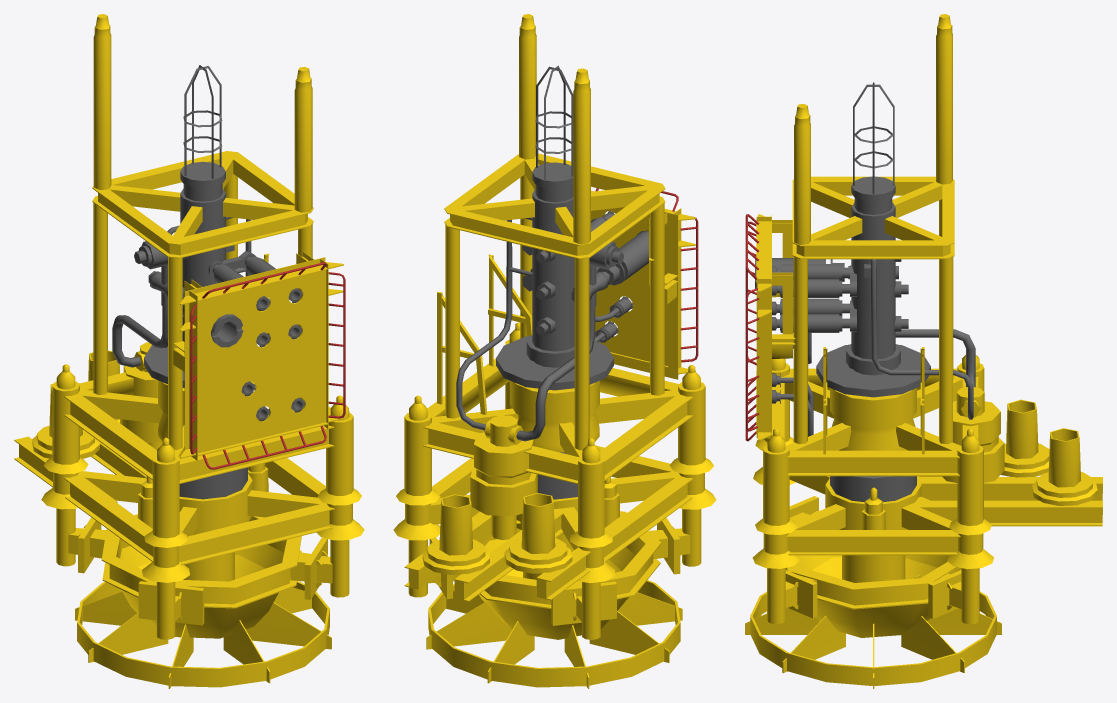
File: ANM_03.FBX
The picture shows the model from 3 angles, left to right: view 1: azimuth 30°, elevation 25°; view 2: azimuth 150°, elevation 25°; view 3: azimuth 270°, elevation 25°; orthographic projection. The views are drawn at different scales.
Parts seen in each view (by area): view 1: ANM 03 AMARELO CORPO, ANM 03 METAL TUBOS, ANM 03 VERMELHO ALCA; view 2: ANM 03 AMARELO CORPO, ANM 03 METAL TUBOS, ANM 03 VERMELHO ALCA; view 3: ANM 03 AMARELO CORPO, ANM 03 METAL TUBOS, ANM 03 VERMELHO ALCA.
Boxes of the visible parts, bbox=[...] form: ANM 03 AMARELO CORPO: bbox=[14, 14, 364, 688]; ANM 03 METAL TUBOS: bbox=[112, 65, 304, 499]; ANM 03 VERMELHO ALCA: bbox=[190, 262, 345, 469]; ANM 03 AMARELO CORPO: bbox=[393, 14, 716, 688]; ANM 03 METAL TUBOS: bbox=[456, 65, 648, 499]; ANM 03 VERMELHO ALCA: bbox=[595, 188, 698, 362]; ANM 03 AMARELO CORPO: bbox=[745, 14, 1102, 688]; ANM 03 METAL TUBOS: bbox=[755, 82, 975, 502]; ANM 03 VERMELHO ALCA: bbox=[745, 214, 759, 441].
Bounding box in the file's own units: 3.36 × 8.48 × 4.68.
